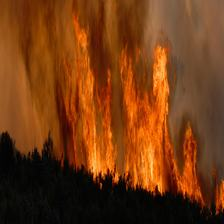fire: (33, 32, 213, 213)
